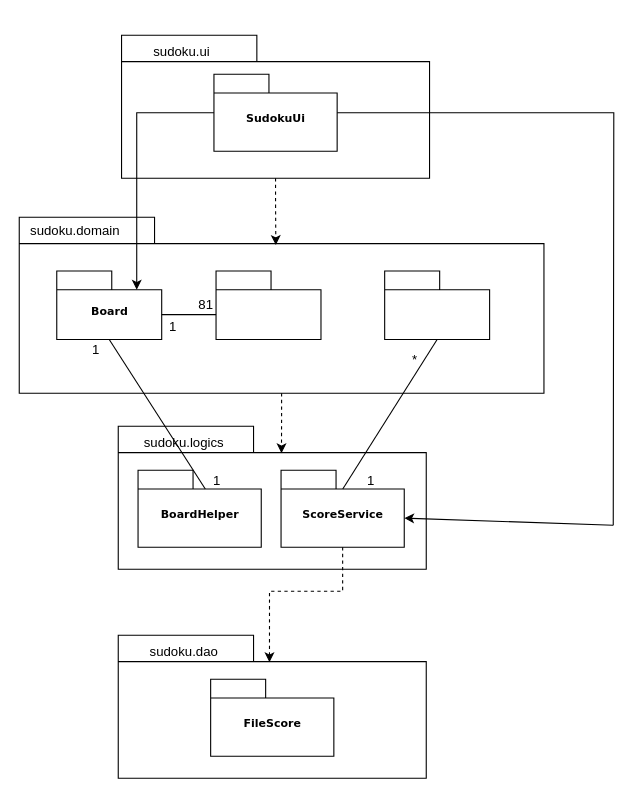
Image size: 641x798. Some labels were removed from this diagram. The shapes that lost their labels are listed below. From the top down, each one's centre as x and y in pixels, then its label:
At point (268, 304): "Cell".
At point (437, 304): "Score".
